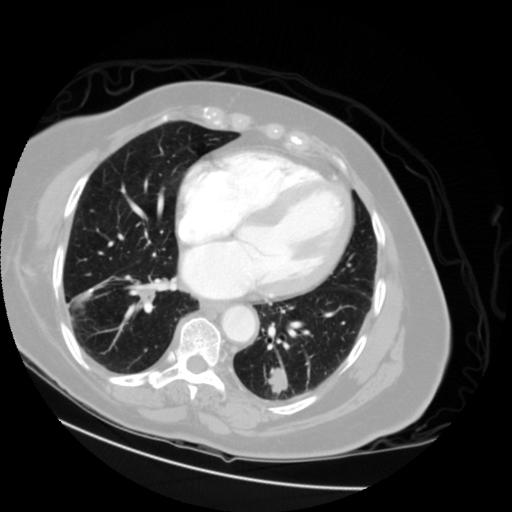nodule: (262, 362, 296, 396)
